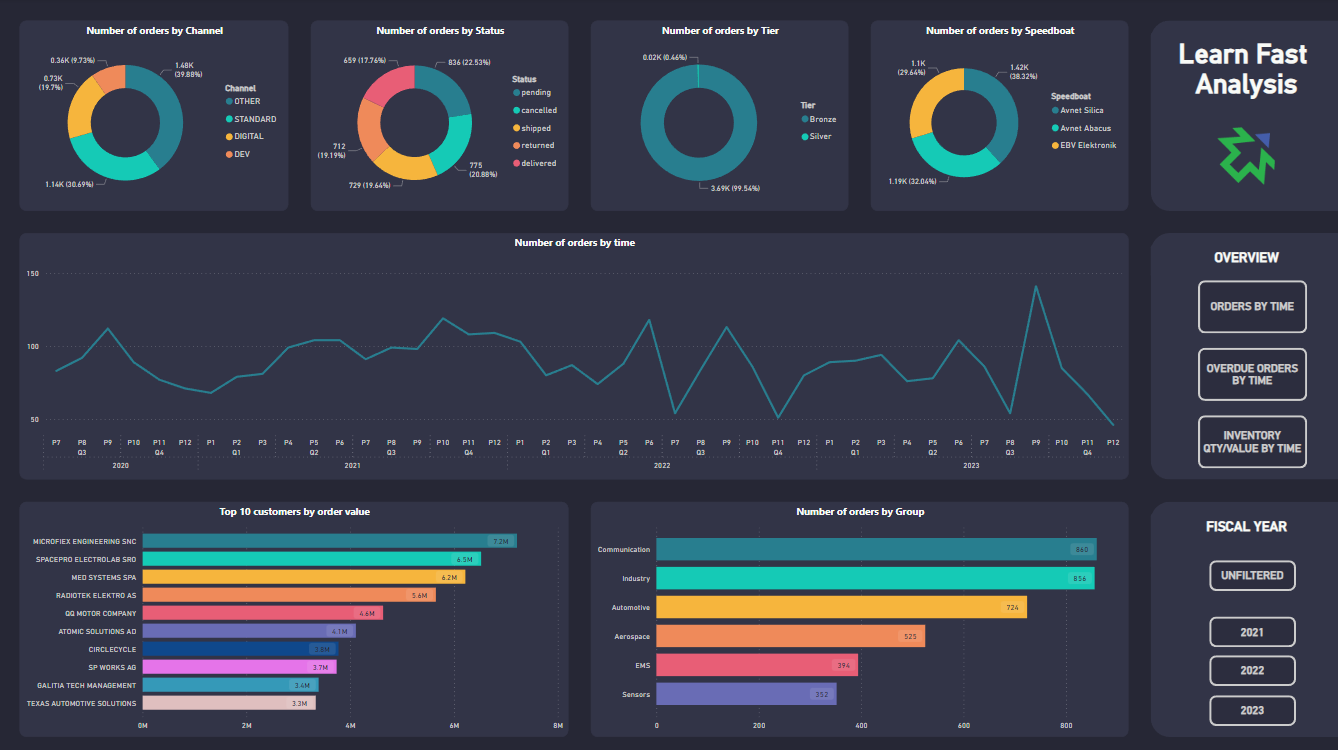

What the dashboard file says about the page in this screenshot:
{"tool":"powerbi","page":{"name":"Page 1","canvas":[1920,1080],"ordinal":0},"visuals":[{"type":"donutChart","fields":{"Category":["Speedboat.boat"],"Y":["CountNonNull(Orders.Order No.)"]},"box":[1248,32,368,272],"z":0},{"type":"donutChart","fields":{"Category":["Status.status"],"Y":["CountNonNull(Orders.Order No.)"]},"box":[448,32,368,272],"z":1000},{"type":"donutChart","fields":{"Category":["Channel.disti_channel"],"Y":["CountNonNull(Orders.Order No.)"]},"box":[32,32,384,272],"z":2000},{"type":"barChart","title":"Number of orders by Group","fields":{"Category":["Group.grptxt"],"Y":["CountNonNull(Orders.Order No.)"],"Series":["Group.grptxt"]},"box":[848,720,768,336],"z":3000},{"type":"donutChart","fields":{"Category":["Orders.CustomerClassification"],"Y":["CountNonNull(Orders.Order No.)"]},"box":[848,32,368,272],"z":4000},{"type":"barChart","title":"Top 10 customers by order value","fields":{"Category":["Customers.customer"],"Y":["Sum(Orders.booked)"],"Series":["Customers.customer"]},"box":[32,720,784,336],"z":5000},{"type":"shape","box":[1648,32,272,272],"z":6000},{"type":"shape","box":[1648,720,272,336],"z":7000},{"type":"shape","box":[1648,336,272,352],"z":8000},{"type":"textbox","box":[1648,48,272,160],"z":9000},{"type":"lineChart","title":"Number of orders by time","fields":{"Y":["CountNonNull(Orders.Order No.)"],"Category":["Orders.FY Hierarchy.FY","Orders.FY Hierarchy.QrtOnly","Orders.FY Hierarchy.PdOnly"]},"box":[32,336,1584,352],"z":10000},{"type":"image","box":[1736,176,96,96],"z":13000},{"type":"textbox","box":[1648,736,272,80],"z":14000},{"type":"actionButton","box":[1728,800,128,48],"z":15000},{"type":"actionButton","box":[1728,880,128,48],"z":16000},{"type":"actionButton","box":[1728,936,128,48],"z":17000},{"type":"actionButton","box":[1728,992,128,48],"z":18000},{"type":"textbox","box":[1648,352,272,48],"z":18001},{"type":"actionButton","box":[1712,400,160,80],"z":18002},{"type":"actionButton","box":[1712,496,160,80],"z":18003},{"type":"actionButton","box":[1712,592,160,80],"z":18004}]}

Visuals, with their boxes in screenshot pixels (x1, y1, x2, y2), scaled from the page's 1920x1080 canvas onto the 1338x750 screenshot:
donutChart - Speedboat.boat x CountNonNull(Orders.Order No.): 870/22/1126/211
donutChart - Status.status x CountNonNull(Orders.Order No.): 312/22/569/211
donutChart - Channel.disti_channel x CountNonNull(Orders.Order No.): 22/22/290/211
"Number of orders by Group" barChart: 591/500/1126/733
donutChart - Orders.CustomerClassification x CountNonNull(Orders.Order No.): 591/22/847/211
"Top 10 customers by order value" barChart: 22/500/569/733
shape: 1148/22/1337/211
shape: 1148/500/1337/733
shape: 1148/233/1337/478
textbox: 1148/33/1337/144
"Number of orders by time" lineChart: 22/233/1126/478
image: 1210/122/1277/189
textbox: 1148/511/1337/567
actionButton: 1204/556/1293/589
actionButton: 1204/611/1293/644
actionButton: 1204/650/1293/683
actionButton: 1204/689/1293/722
textbox: 1148/244/1337/278
actionButton: 1193/278/1305/333
actionButton: 1193/344/1305/400
actionButton: 1193/411/1305/467
